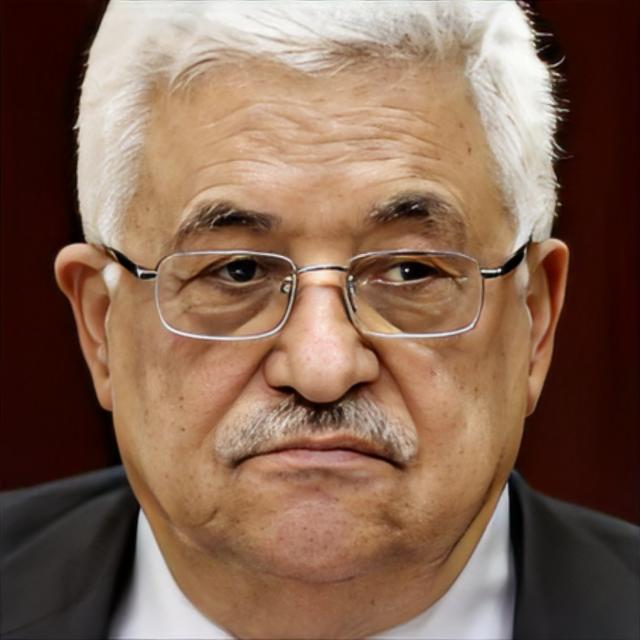anger: (122, 38, 522, 592)
